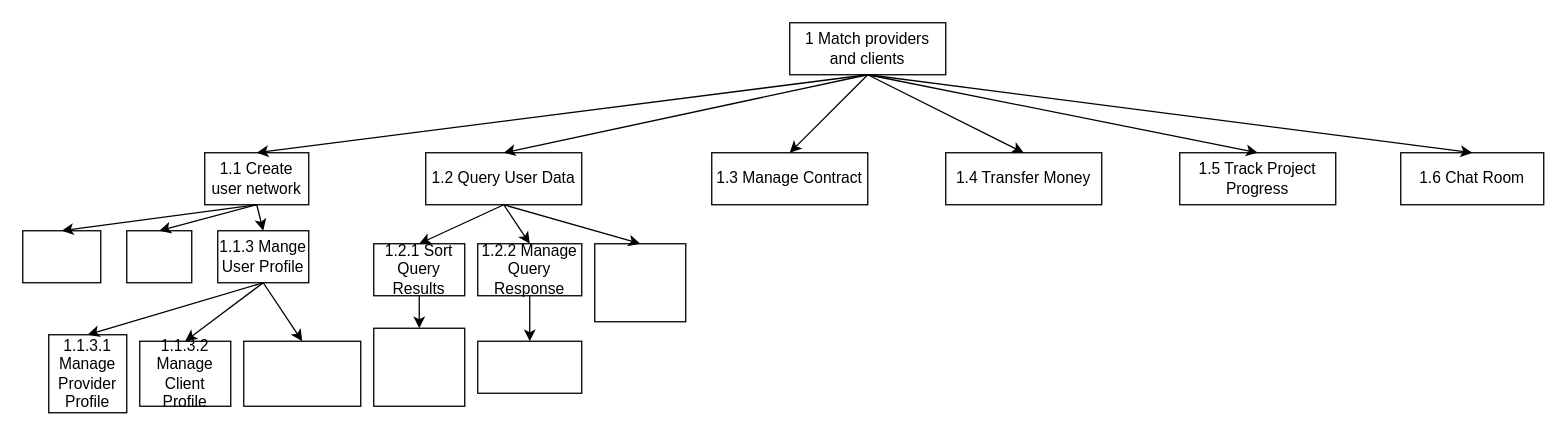
The diagram is 1567 pixels wide and 435 high, and some of its shapes have lost their labels. Here are the shapes that lost their labels. From the top down, the box of each, then its label:
(21, 229, 101, 283): 1.1.1 Sign Up
(125, 229, 192, 283): 1.1.2 Login
(593, 242, 686, 322): 1.2.3 Implement Dynamic Query
(242, 340, 361, 406): 1.1.3.3 Provide Premium Profile Option
(372, 327, 465, 406): 1.2.1.1 Implement sorting method
(476, 340, 582, 393): 1.2.2.1 Limit Only Guests' Results
